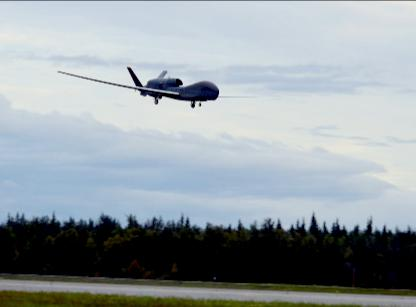P3: (56, 66, 284, 108)
